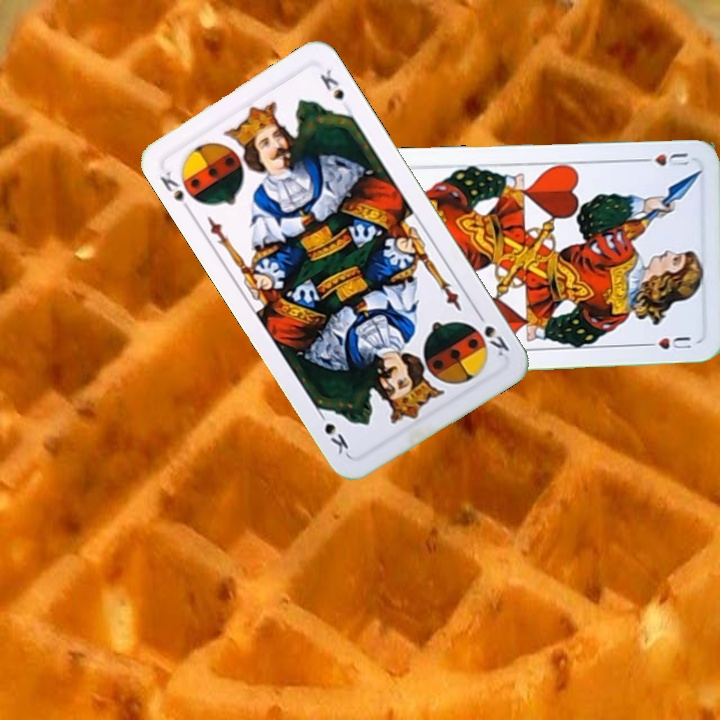HU: (634, 149, 691, 169)
SK: (472, 307, 512, 359), (156, 166, 195, 216)
